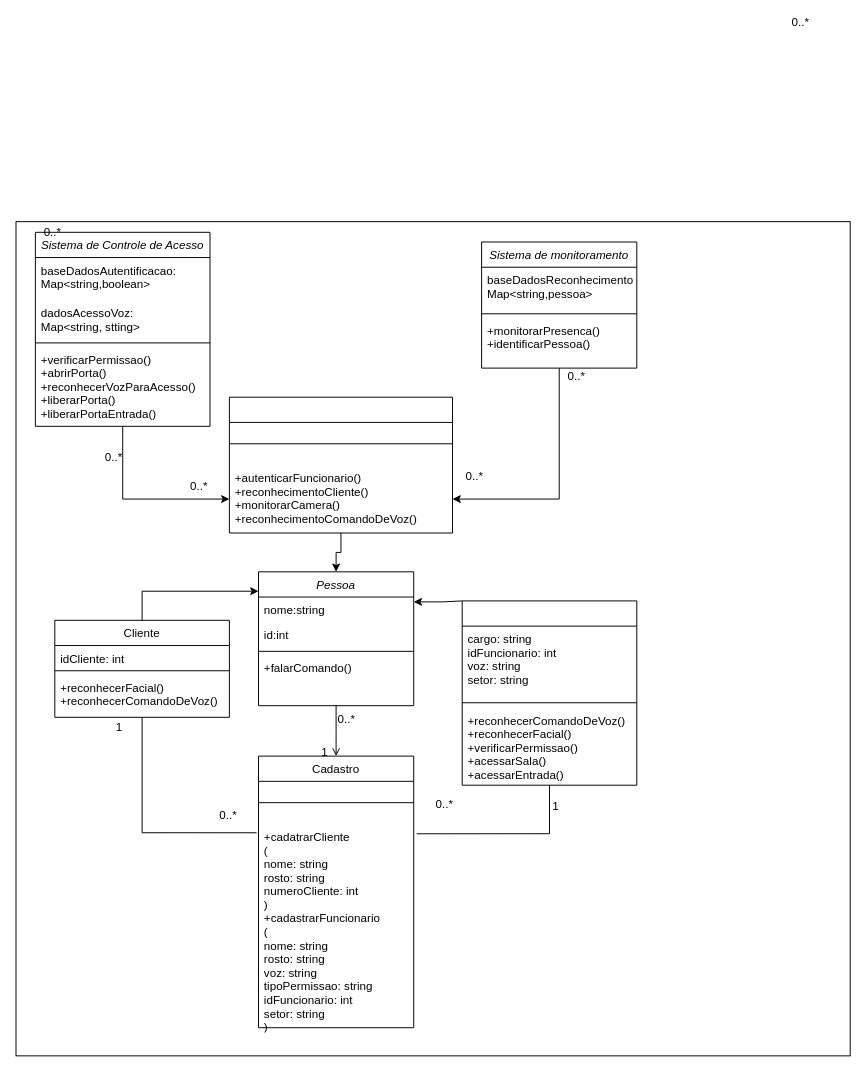
The diagram is 866 pixels wide and 1072 high, and some of its shapes have lost their labels. The shapes that lost their labels are listed below. From the top down, each one's box as (x1, y1, x2, y2) in pixels, then its label:
(228, 396, 453, 533): Sistema
(461, 600, 637, 785): Funcionário
